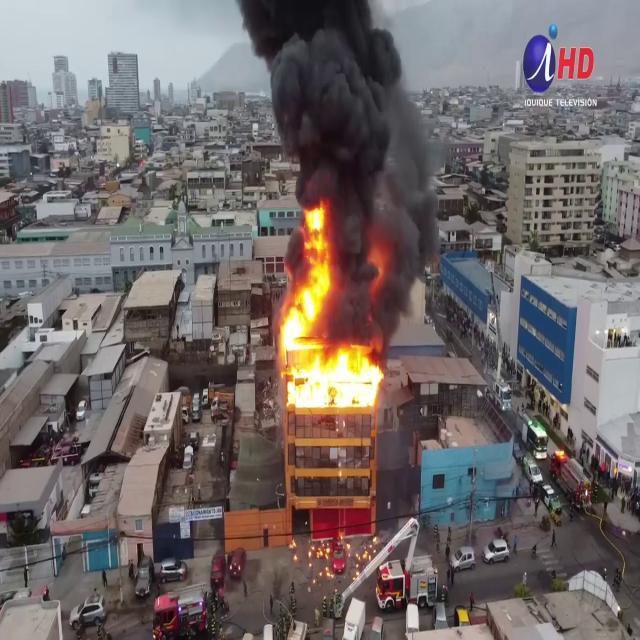Fire: (276, 207, 384, 413)
Smoke: (242, 0, 445, 301)
